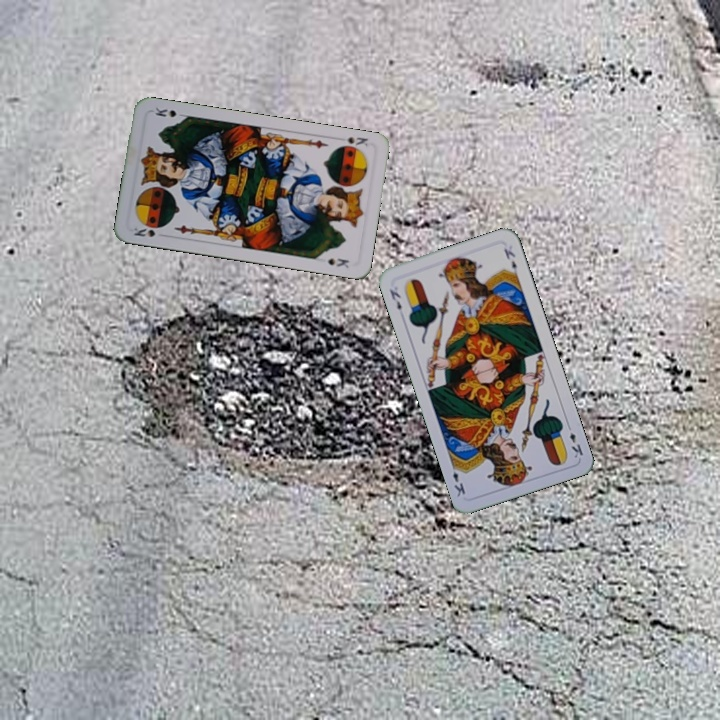EK: (563, 420, 586, 461), (385, 285, 404, 313)
SK: (130, 221, 169, 240), (343, 133, 371, 149)
